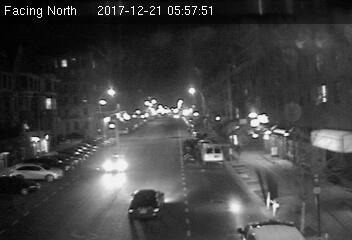car: (127, 187, 168, 223), (100, 151, 131, 174)
police: (236, 214, 314, 240)
truck: (202, 144, 223, 163)
